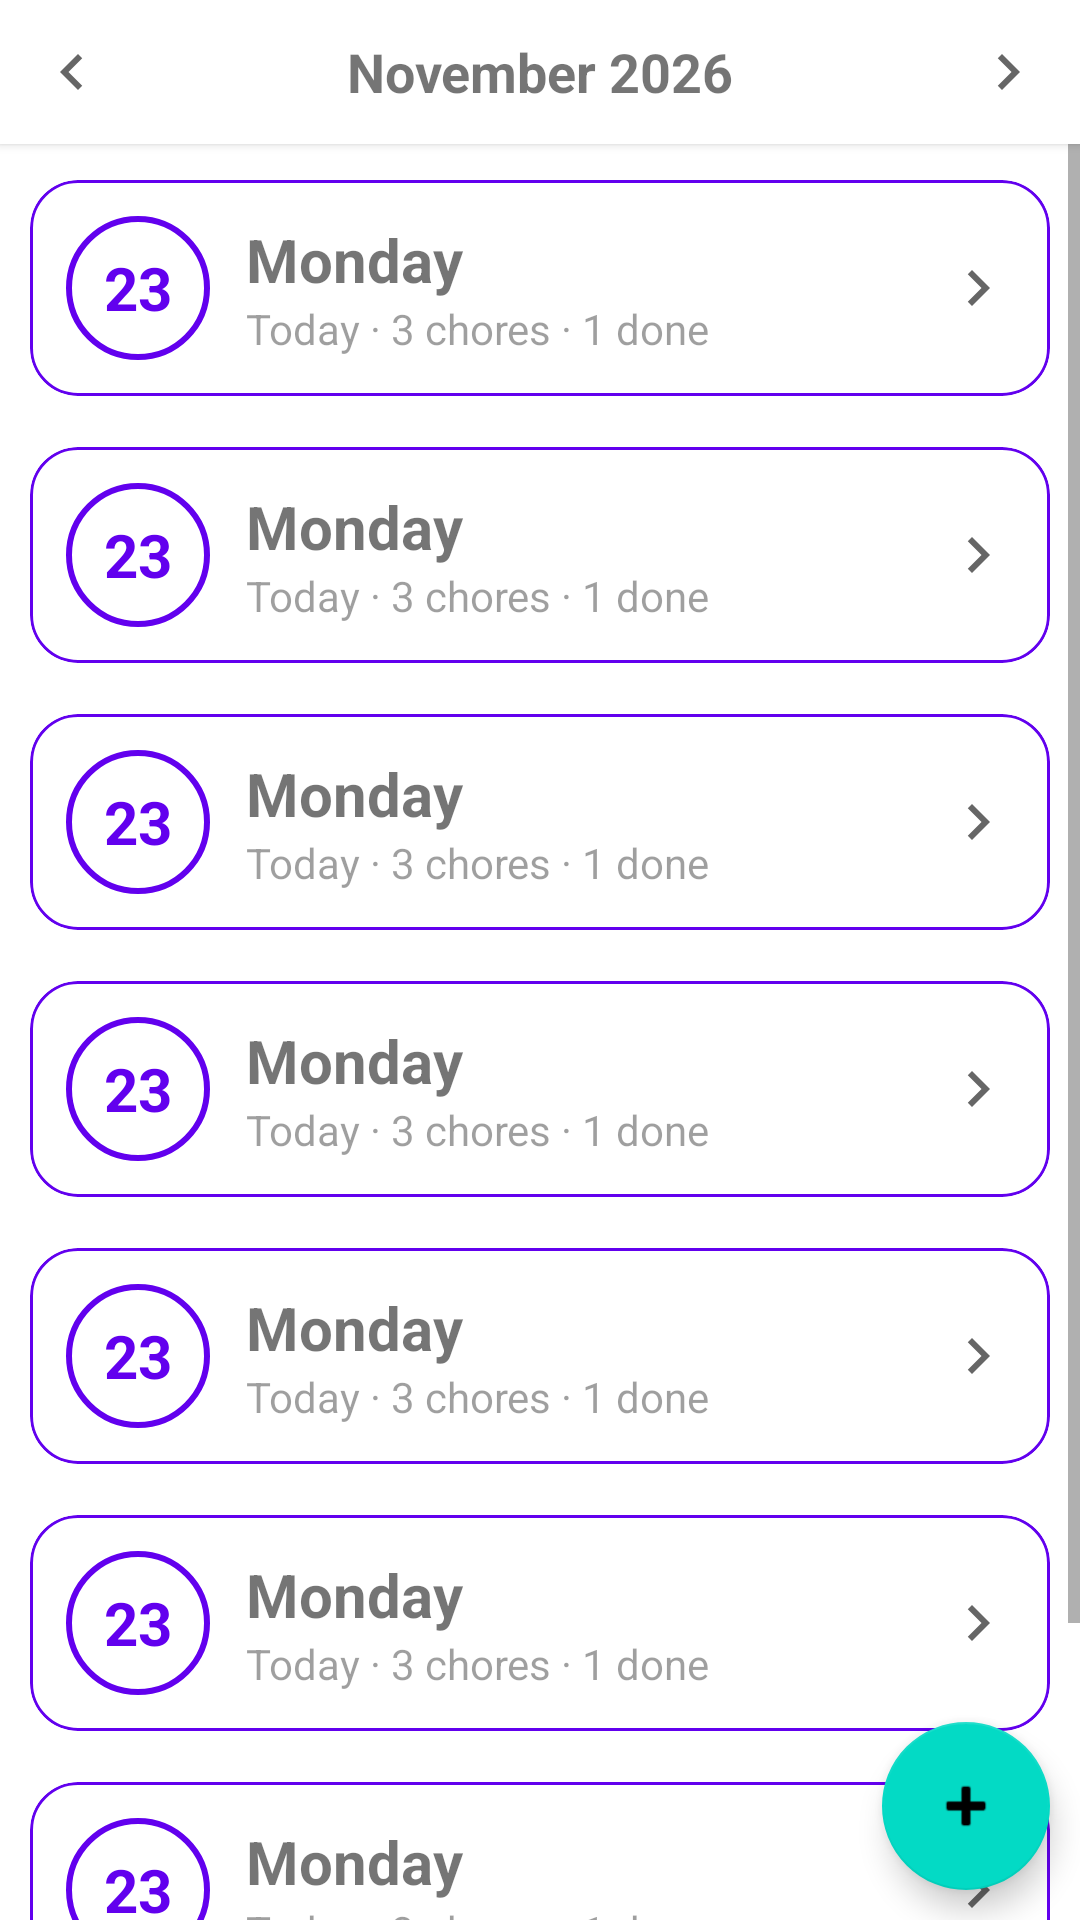

Where icons sit on this 1080w x 1920h app screen, as (x1, y1, x2, y2):
Previous: (60, 54, 82, 90)
